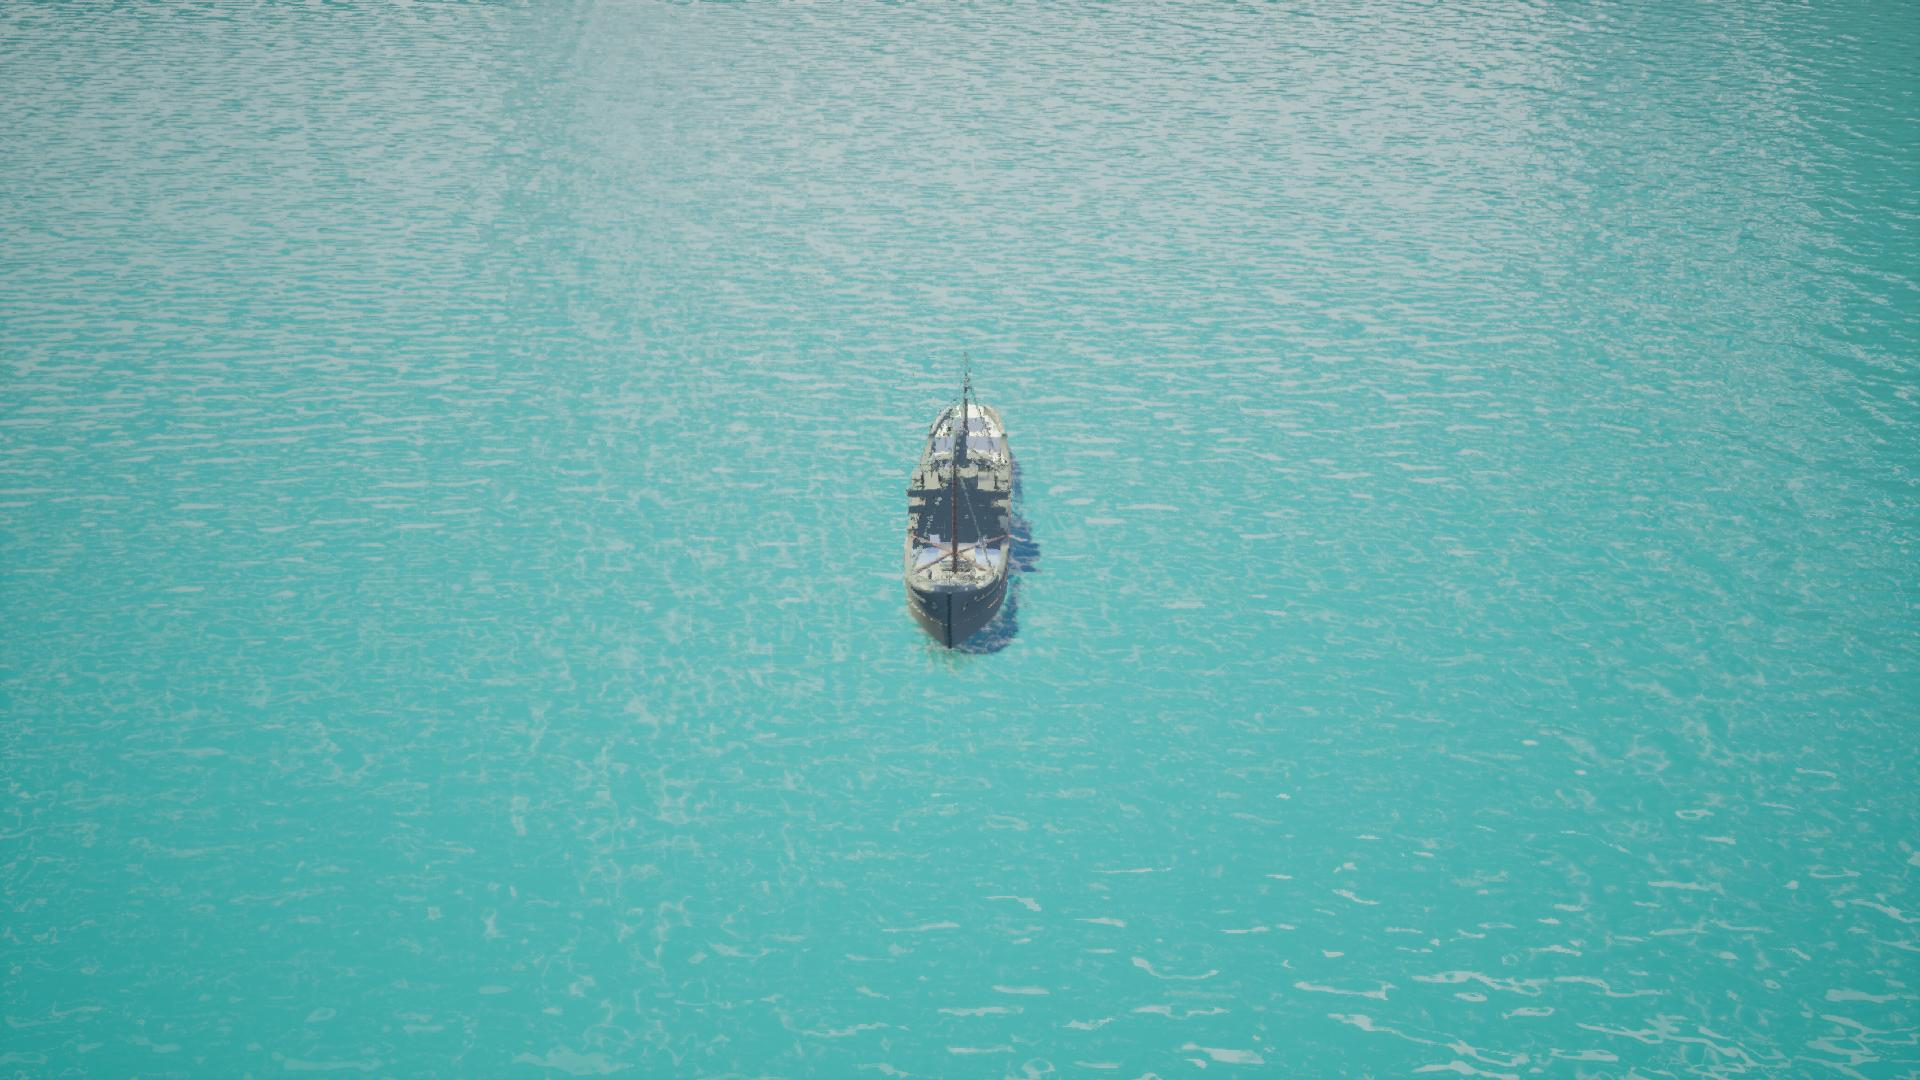Fishing Boat: (899, 382, 1030, 659)
